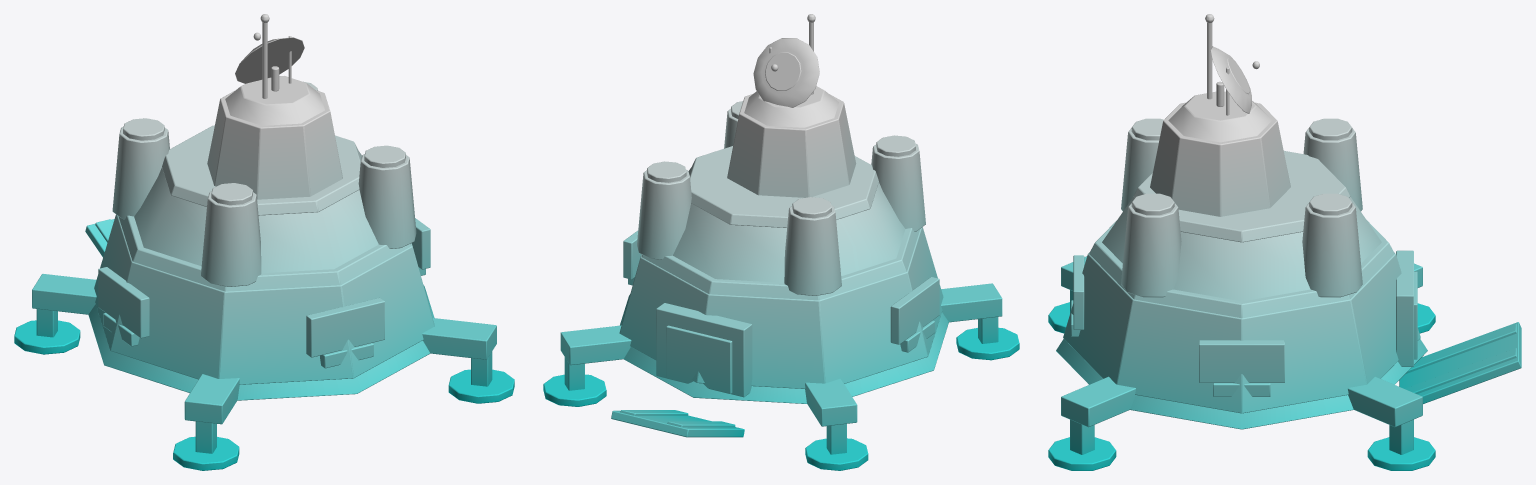
The model's file is concord_building_lander.glb.
3 views of the same model, side by side, from view 1: azimuth 30°, elevation 25°; view 2: azimuth 150°, elevation 25°; view 3: azimuth 270°, elevation 25° (orthographic). The views are drawn at different scales.
Parts seen in each view (by area): view 1: body, dish; view 2: body, dish; view 3: body, dish.
Boxes of the visible parts, x1=… form: body: x1=14, y1=14, x2=514, y2=470; dish: x1=235, y1=32, x2=304, y2=91; body: x1=543, y1=14, x2=1019, y2=470; dish: x1=753, y1=38, x2=819, y2=107; body: x1=1048, y1=14, x2=1521, y2=470; dish: x1=1210, y1=46, x2=1259, y2=113.
Bounding box in the file's own units: 10.72 × 11.4 × 13.21.
